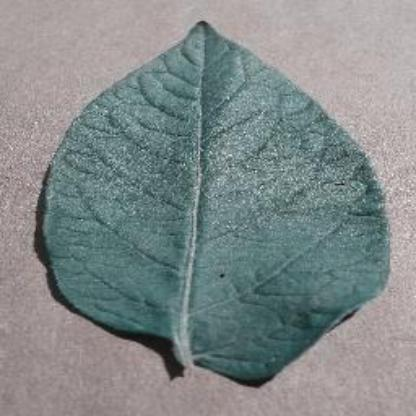Healthy-plant: (30, 18, 397, 390)
